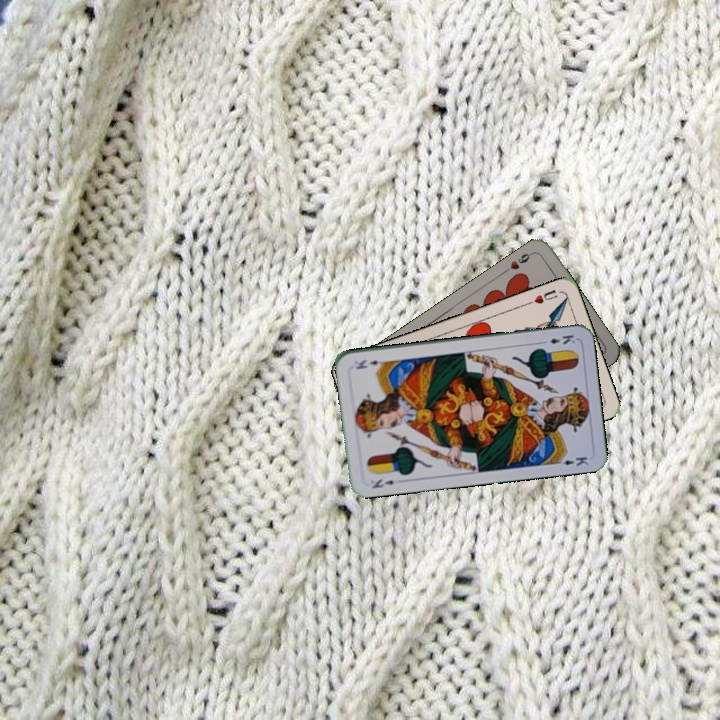EK: (537, 330, 578, 347), (368, 475, 397, 491)
H9: (500, 248, 536, 275)
HU: (523, 285, 560, 307)
